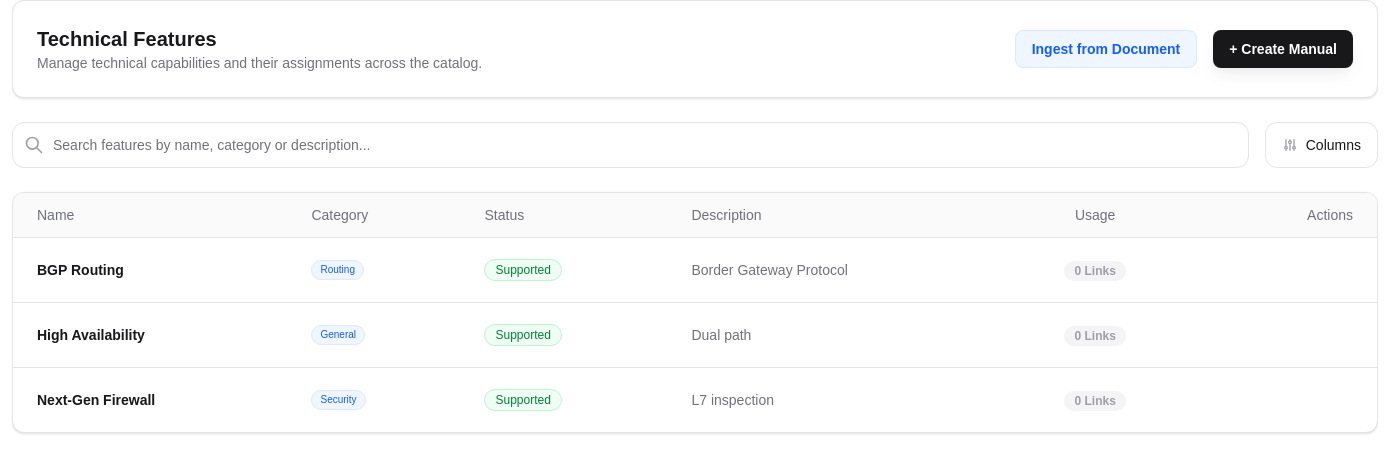
Scenario: FeatureList Search › filters features by name correctly
This screenshot has width=1390, height=451.
Expected: the text "BGP Routing" is shown, left=13, top=238, right=288, bottom=302
Expected: the text "High Availability" is shown, left=13, top=302, right=288, bottom=368
Note: Search for 'Firewall'
Type "Firewall" into the field with placeholder "Search features by name, category or description...". click: (630, 145)
box: left=12, top=122, right=1249, bottom=168
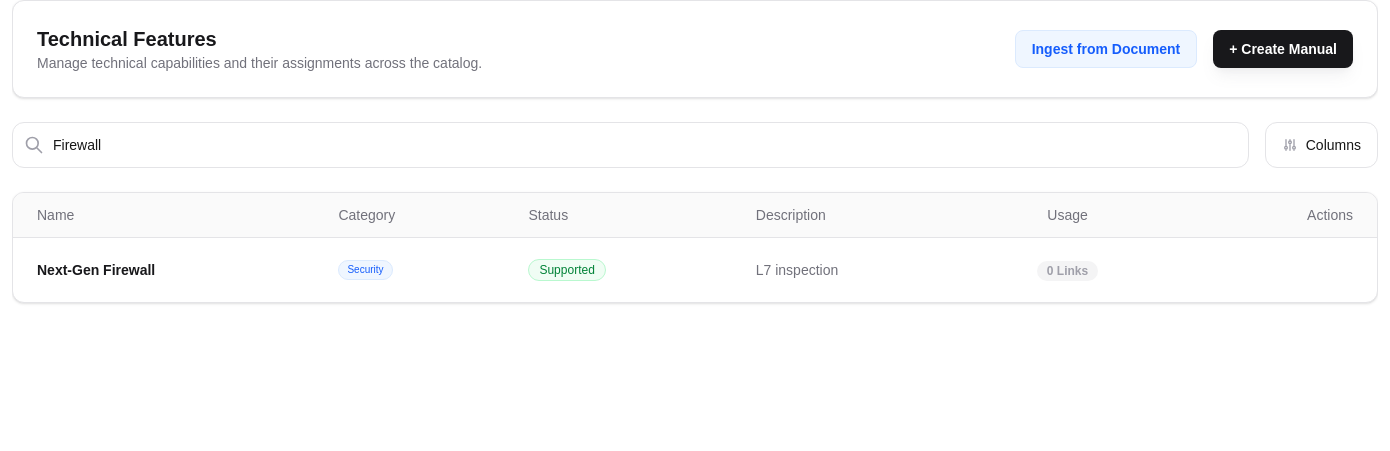
Expected: the text "Next-Gen Firewall" is shown, left=13, top=238, right=314, bottom=302
Now the text "BGP Routing" is gone
Now the text "High Availability" is gone
